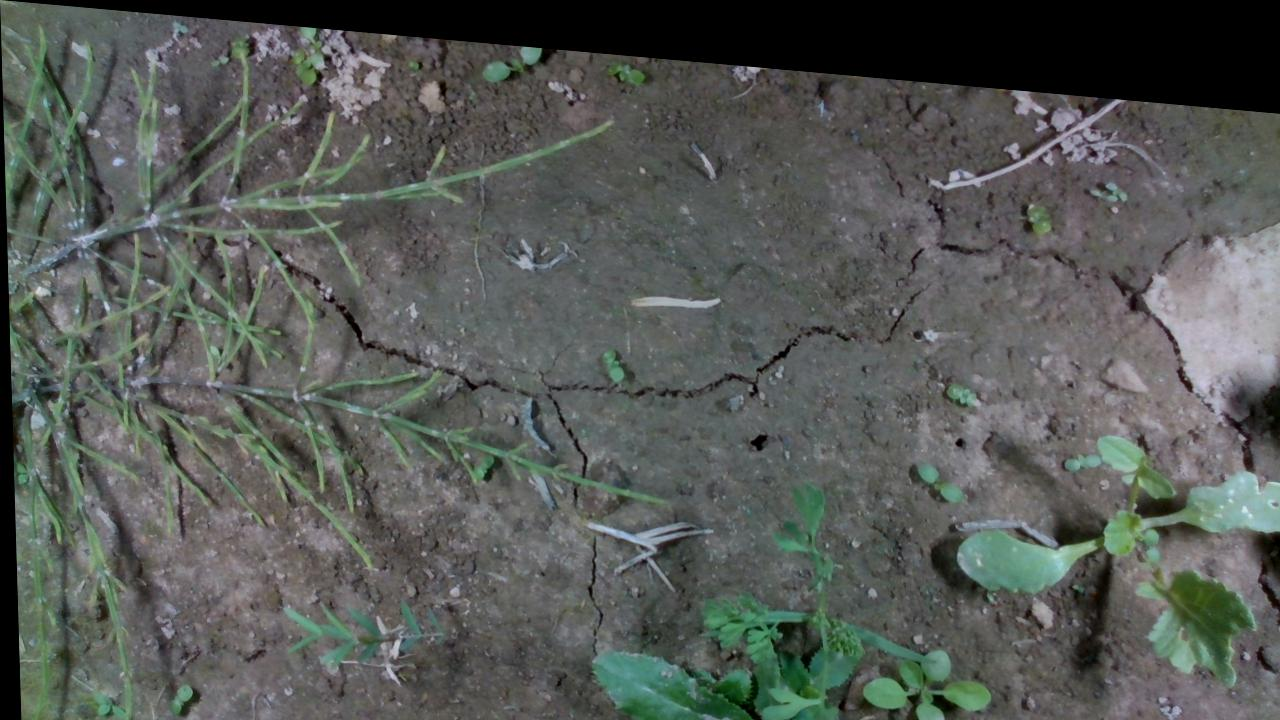weed: (938, 353, 992, 405), (909, 442, 965, 491), (590, 328, 639, 379), (1090, 156, 1135, 199), (1065, 424, 1087, 453)
